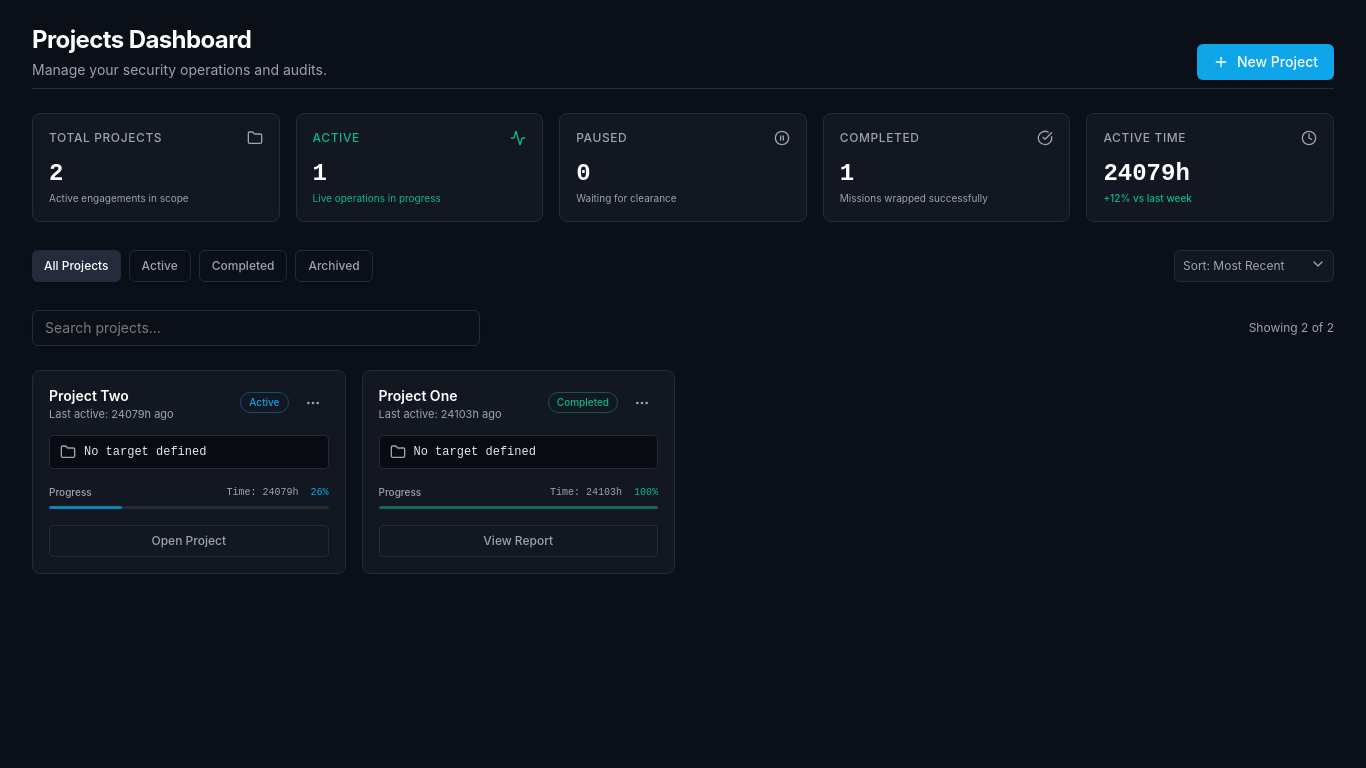
Dashboard filters › includes active projects with complete engagement progress in the completed filter
Check: the heading "Project One" is shown, box 378,386 -> 458,404
Click the button "Completed" at x=243, y=266, box 199,250 -> 287,282
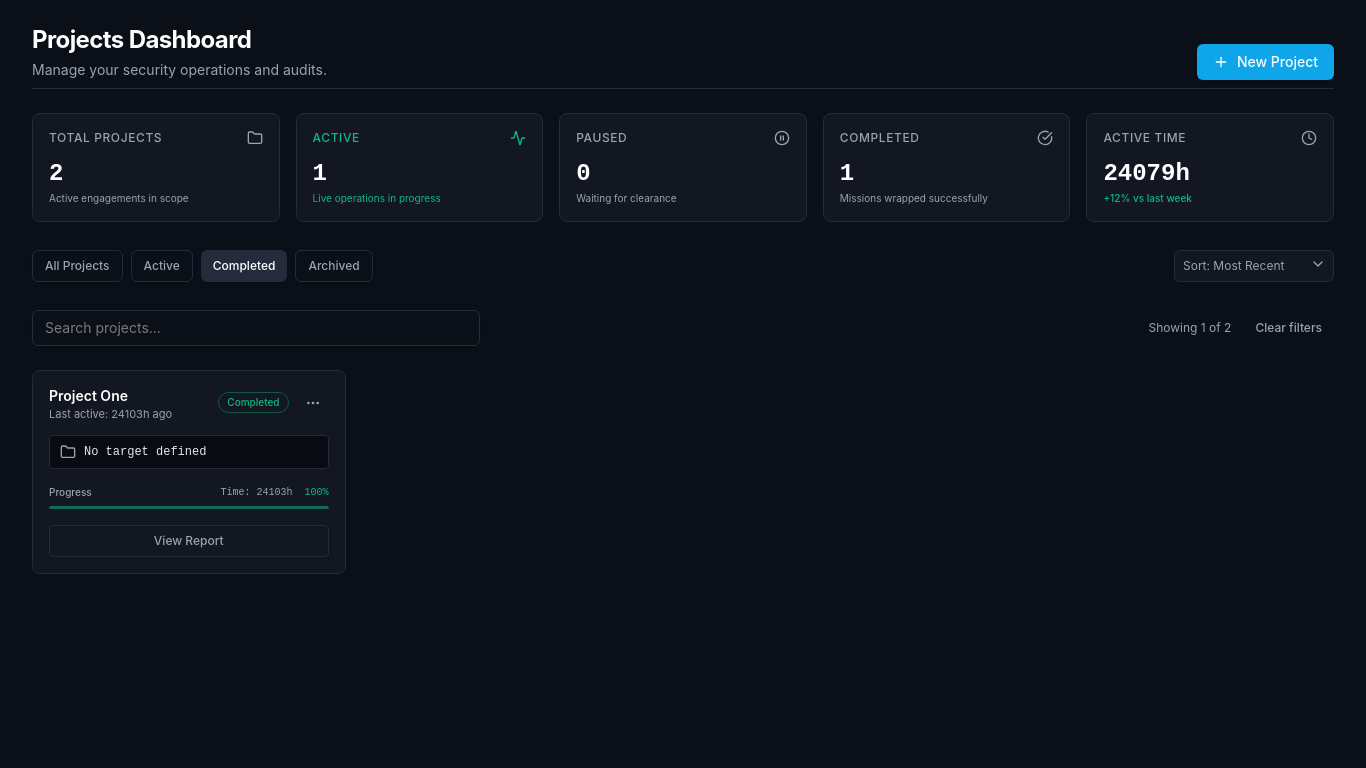
Check: the heading "Project One" is shown, box 49,386 -> 128,404
Check: the button "Project Two" is gone
